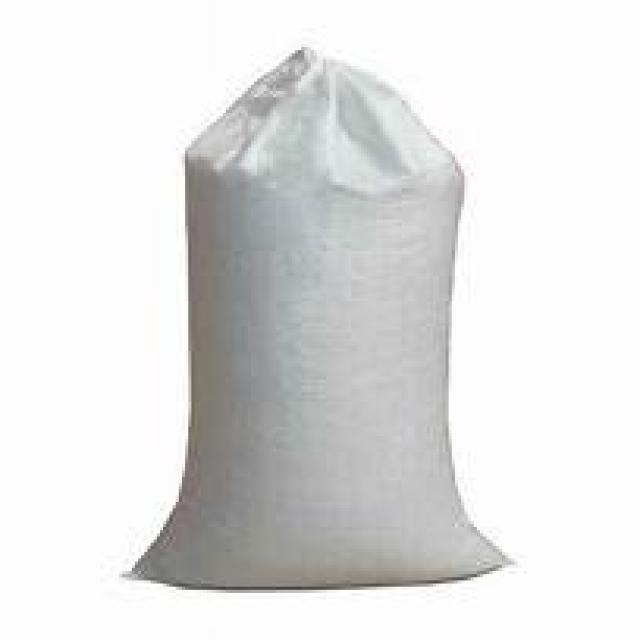gunny_bag: (125, 47, 522, 595)
